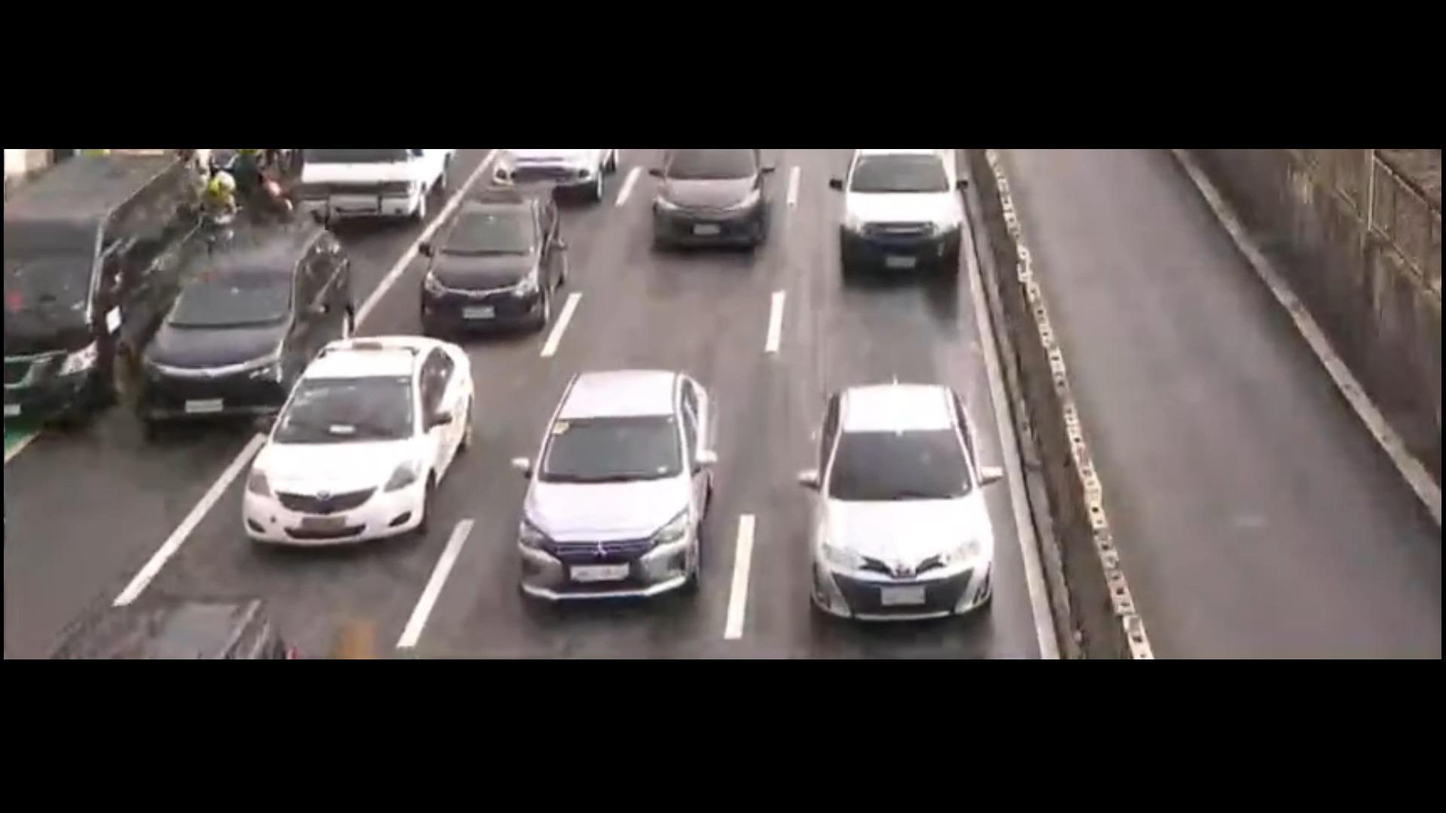SUV: (125, 219, 373, 437)
Sedan: (768, 350, 1021, 633), (489, 360, 744, 595), (228, 326, 484, 556), (826, 147, 993, 285), (421, 181, 569, 331), (679, 143, 787, 249)
Van: (0, 142, 215, 444)
